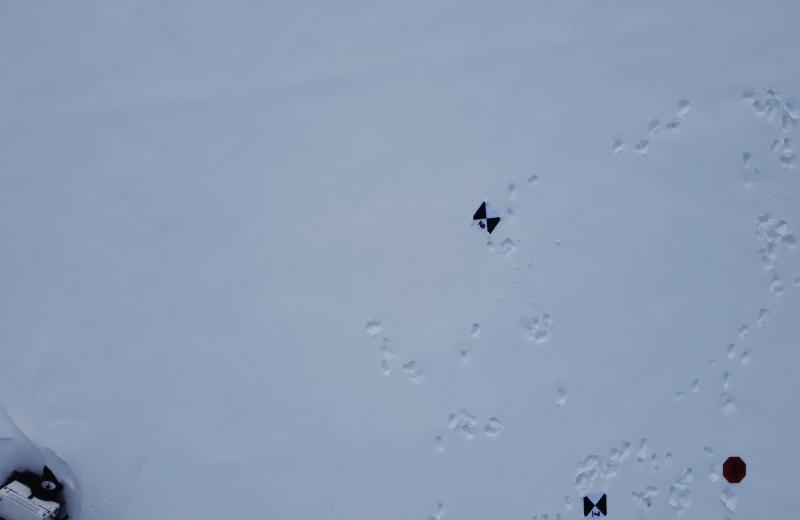Octagon: (721, 450, 748, 486)
